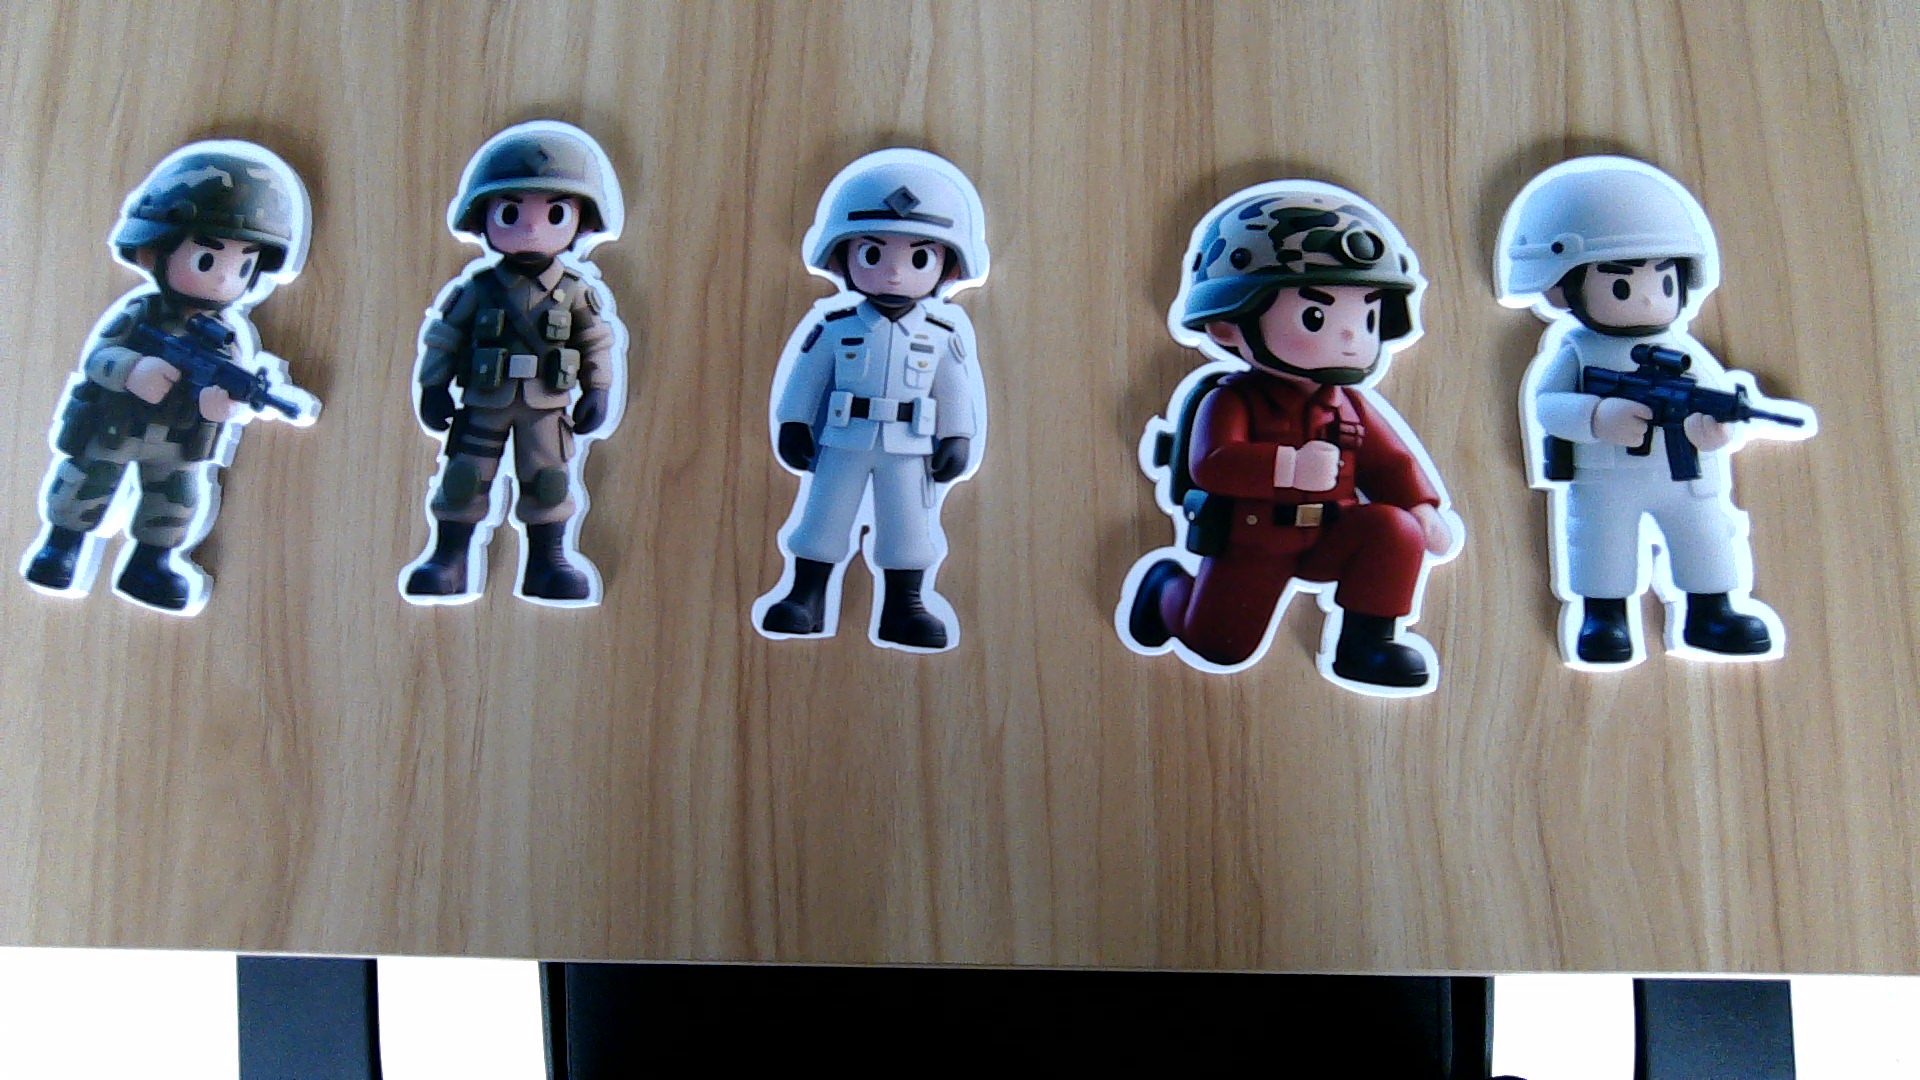人质: (1509, 334, 1829, 678), (746, 297, 992, 654)
友军: (17, 301, 326, 618), (393, 261, 625, 612)
敌人1: (1112, 381, 1466, 696)
